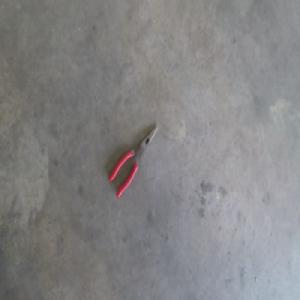Pliers: (109, 124, 159, 199)
